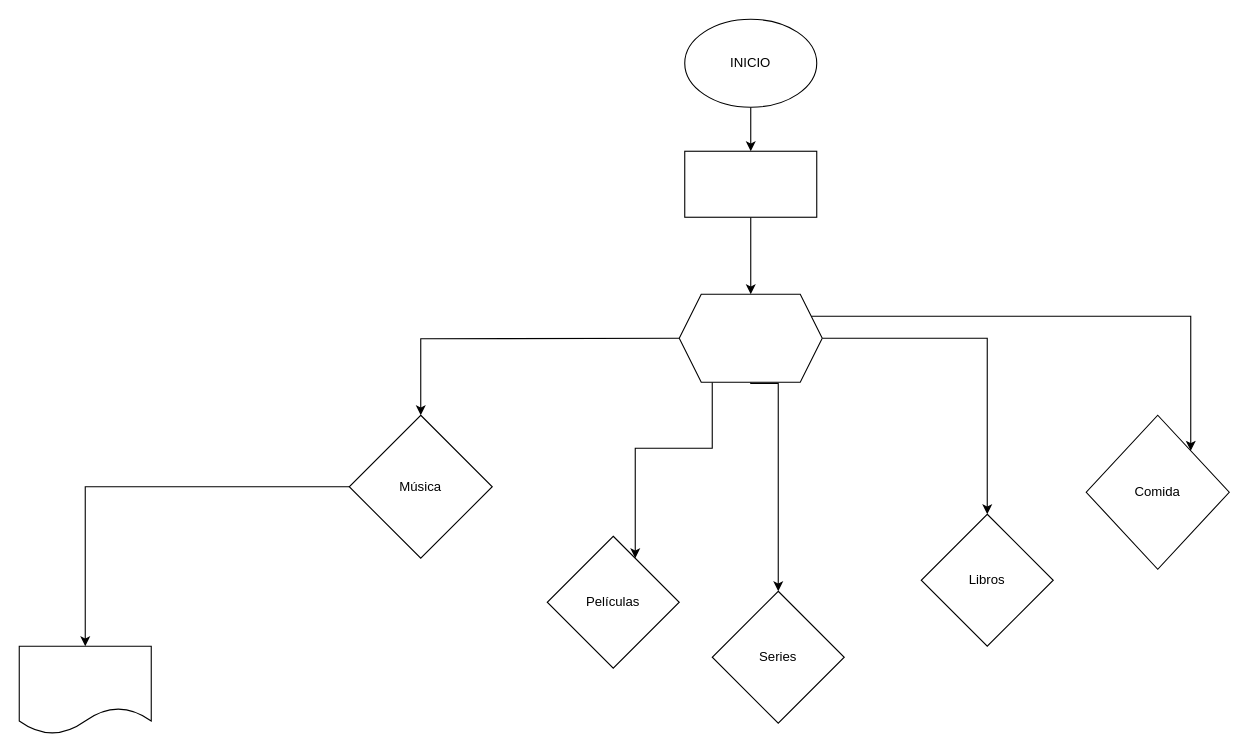
This 1249x754 diagram has some shape labels left out. Each missing label, with the centre of its shape:
"Elige una opción": point (750, 337)
opcion (char): point (750, 183)
